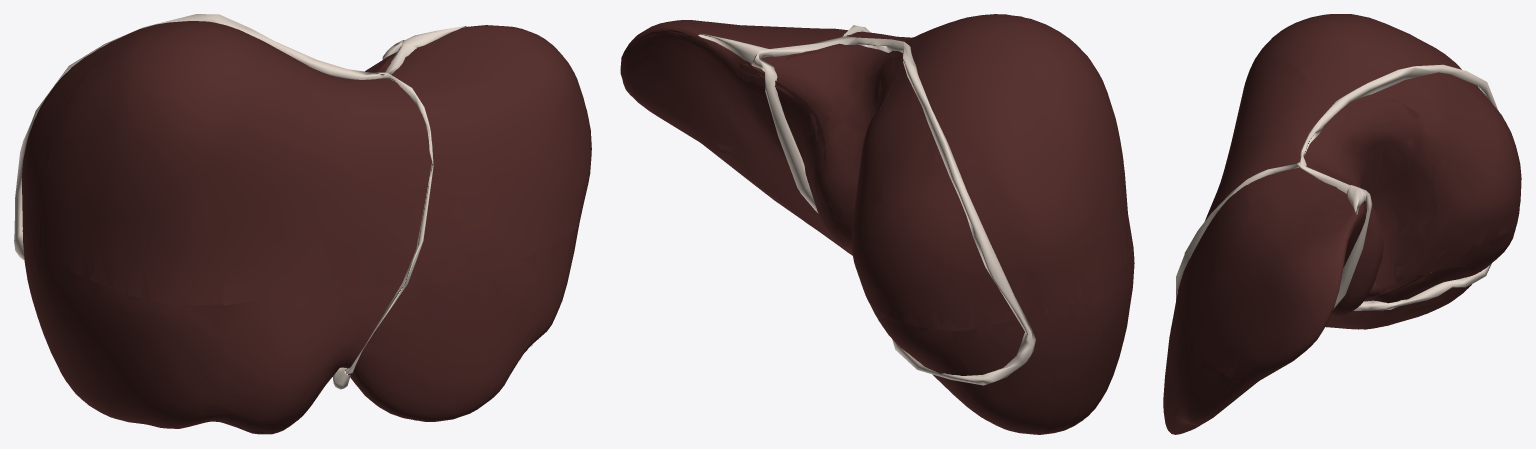
File: liver.glb
3 renders of one model, left to right at view 1: azimuth 30°, elevation 25°; view 2: azimuth 150°, elevation 25°; view 3: azimuth 270°, elevation 25°, orthographic. The views are drawn at different scales.
Visible parts, largest first — view 1: VH_F_capsule_of_the_liver, VH_F_left_superomedial_segment1, VH_F_left_superomedial_segment, VH_F_right_anterosuperior_segment, VH_F_left_inferomedial_segment, VH_F_left_anterolateral_segment, VH_F_right_anteroinferior_segment, VH_F_coronary_ligament_of_liver, VH_F_falciform_ligament, VH_F_right_posterosuperior_segment; view 2: VH_F_capsule_of_the_liver, VH_F_bare_area_of_liver, VH_F_right_posterosuperior_segment, VH_F_coronary_ligament_of_liver, VH_F_diaphragmatic_surface_of_liver, VH_F_left_superomedial_segment, VH_F_caudate_lobe, VH_F_right_posteroinferior_segment, VH_F_right_anterosuperior_segment, VH_F_ligamentum_venosum, VH_F_gastric_impression_of_liver, VH_F_right_anteroinferior_segment (+3 smaller); view 3: VH_F_capsule_of_the_liver, VH_F_bare_area_of_liver, VH_F_left_superomedial_segment, VH_F_caudate_lobe, VH_F_right_posterosuperior_segment, VH_F_left_superomedial_segment1, VH_F_coronary_ligament_of_liver, VH_F_diaphragmatic_surface_of_liver, VH_F_right_anterosuperior_segment, VH_F_left_anterolateral_segment, VH_F_right_posteroinferior_segment, VH_F_falciform_ligament (+3 smaller).
Part boxes in pixels (x1,y1,x2,y2): VH_F_capsule_of_the_liver: (21, 21, 591, 434); VH_F_left_superomedial_segment1: (223, 55, 434, 305); VH_F_left_superomedial_segment: (381, 25, 591, 284); VH_F_right_anterosuperior_segment: (38, 21, 278, 305); VH_F_left_inferomedial_segment: (209, 284, 399, 433); VH_F_left_anterolateral_segment: (345, 227, 578, 420); VH_F_right_anteroinferior_segment: (38, 248, 224, 428); VH_F_coronary_ligament_of_liver: (14, 14, 414, 260); VH_F_falciform_ligament: (345, 73, 433, 374); VH_F_right_posterosuperior_segment: (22, 28, 147, 247); VH_F_capsule_of_the_liver: (620, 14, 1134, 434); VH_F_bare_area_of_liver: (750, 47, 1024, 375); VH_F_right_posterosuperior_segment: (852, 61, 1102, 331); VH_F_coronary_ligament_of_liver: (769, 35, 1035, 385); VH_F_diaphragmatic_surface_of_liver: (620, 30, 1002, 427); VH_F_left_superomedial_segment: (623, 20, 847, 183); VH_F_caudate_lobe: (780, 47, 900, 250); VH_F_right_posteroinferior_segment: (867, 283, 1102, 433); VH_F_right_anterosuperior_segment: (894, 14, 1133, 282); VH_F_ligamentum_venosum: (752, 53, 818, 213); VH_F_gastric_impression_of_liver: (667, 68, 852, 255); VH_F_right_anteroinferior_segment: (1065, 254, 1134, 427); VH_F_capsule_of_the_liver: (1163, 14, 1473, 434); VH_F_bare_area_of_liver: (1306, 74, 1521, 298); VH_F_left_superomedial_segment: (1177, 172, 1366, 382); VH_F_caudate_lobe: (1306, 98, 1441, 315); VH_F_right_posterosuperior_segment: (1393, 28, 1521, 253); VH_F_left_superomedial_segment1: (1194, 57, 1324, 250); VH_F_coronary_ligament_of_liver: (1300, 64, 1497, 310); VH_F_diaphragmatic_surface_of_liver: (1171, 201, 1497, 433); VH_F_right_anterosuperior_segment: (1253, 14, 1394, 102); VH_F_left_anterolateral_segment: (1163, 296, 1239, 429); VH_F_right_posteroinferior_segment: (1388, 221, 1517, 325); VH_F_falciform_ligament: (1176, 162, 1300, 300).
Size of the model in its own units: 0.2471 by 0.17 by 0.1661.
